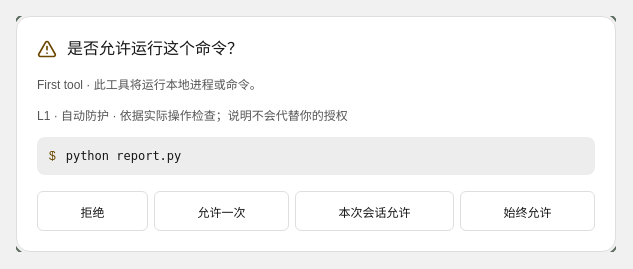
it: PermissionPromptHost › advances to the next request after a decision
The image size is (633, 269).
Expected: the text "First tool" is shown, [37, 78, 83, 92]
Click the button "拒绝" at (92, 211), box [37, 191, 148, 231]
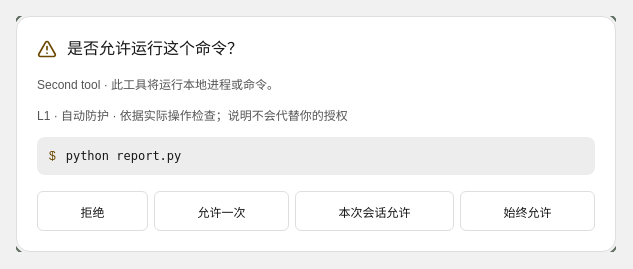
Now the text "Second tool" is shown, box [37, 78, 100, 92]
